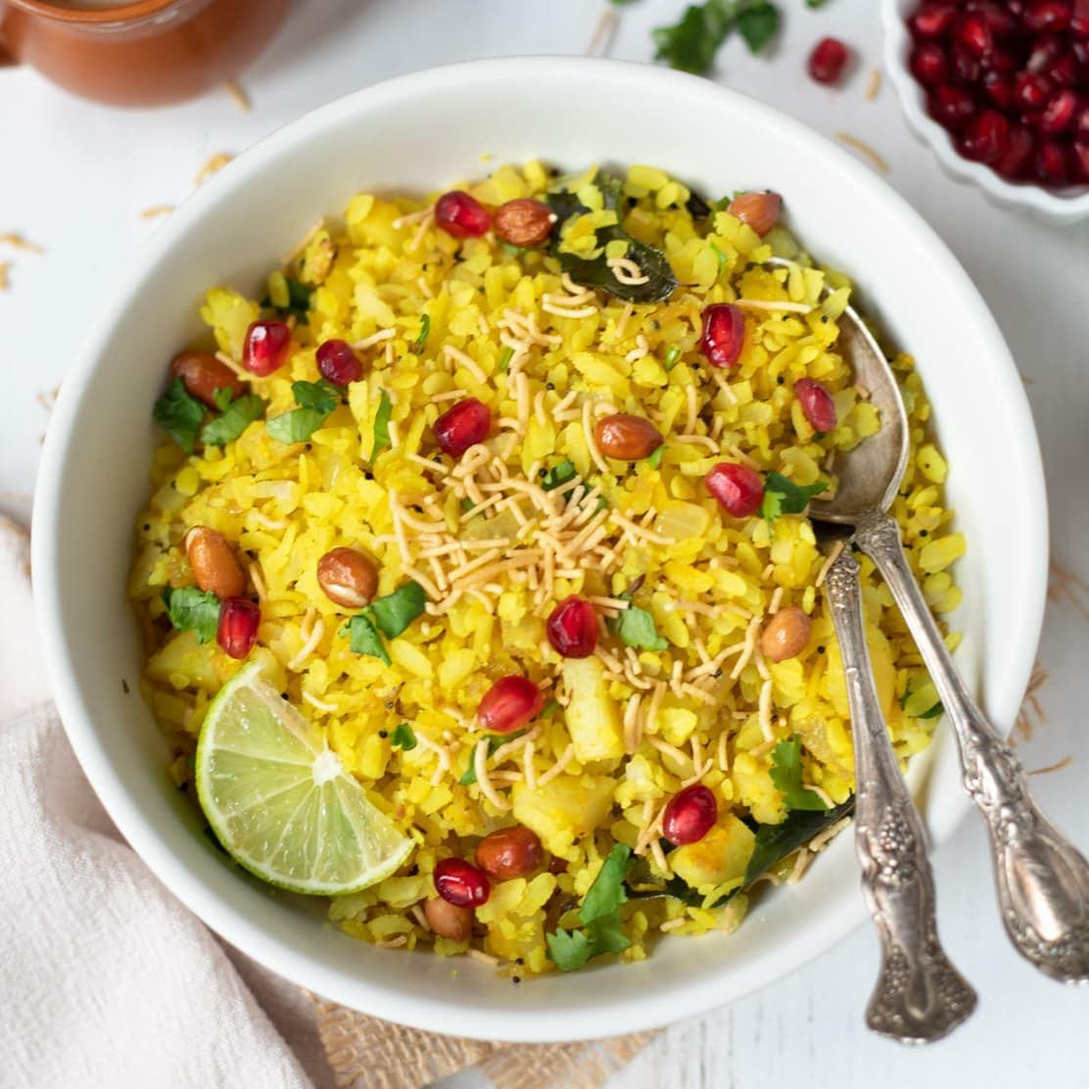Poha: (136, 142, 965, 970)
